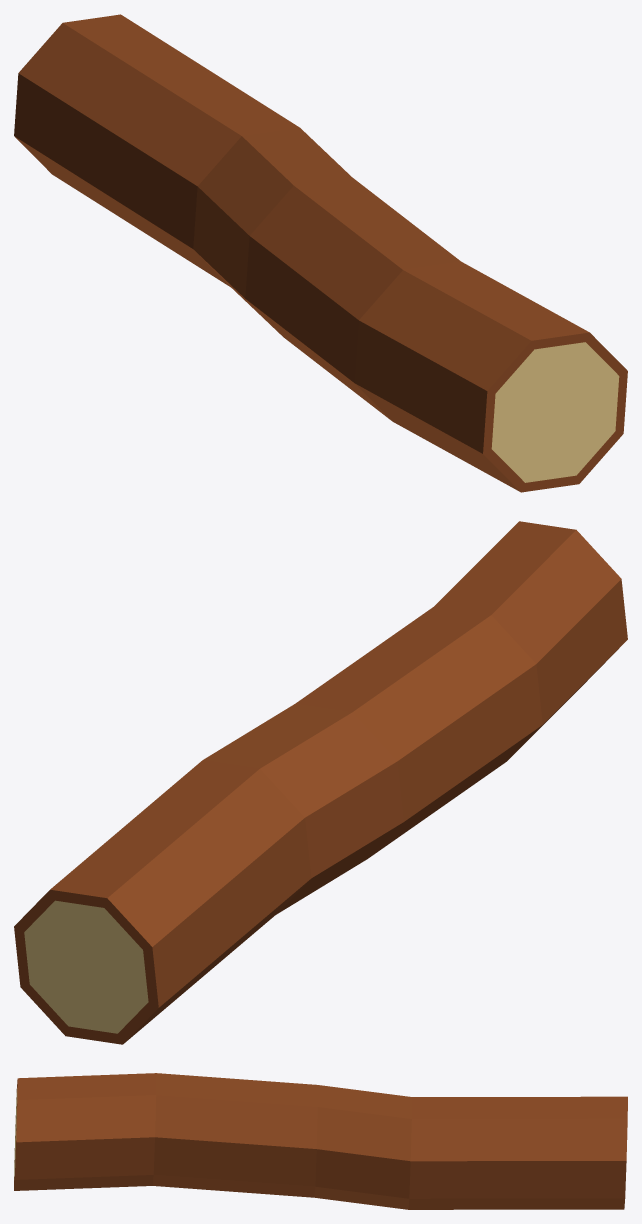
File: Log5.fbx
3 views of the same model, one above another, from view 1: azimuth 30°, elevation 25°; view 2: azimuth 150°, elevation 25°; view 3: azimuth 270°, elevation 25° (orthographic). The views are drawn at different scales.
Parts seen in each view (by area): view 1: Log_5; view 2: Log_5; view 3: Log_5.
Boxes of the visible parts, x1,y1,x2,y2 form: Log_5: [14, 14, 627, 492]; Log_5: [14, 521, 627, 1044]; Log_5: [14, 1073, 627, 1209].
Bounding box in the file's own units: 239 × 225 × 1078.
